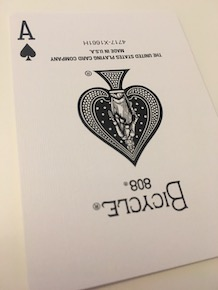AceOfSpades: (3, 7, 218, 289)
